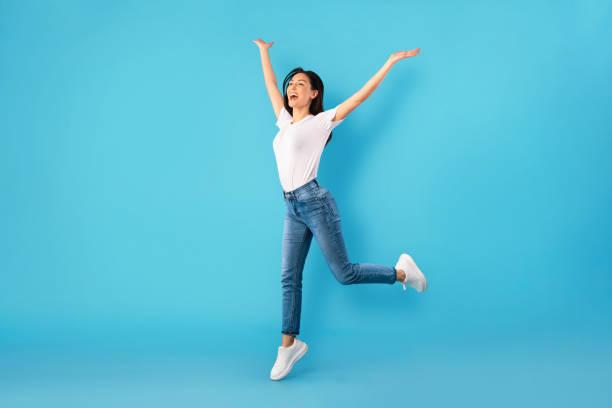Human: (234, 37, 439, 386)
